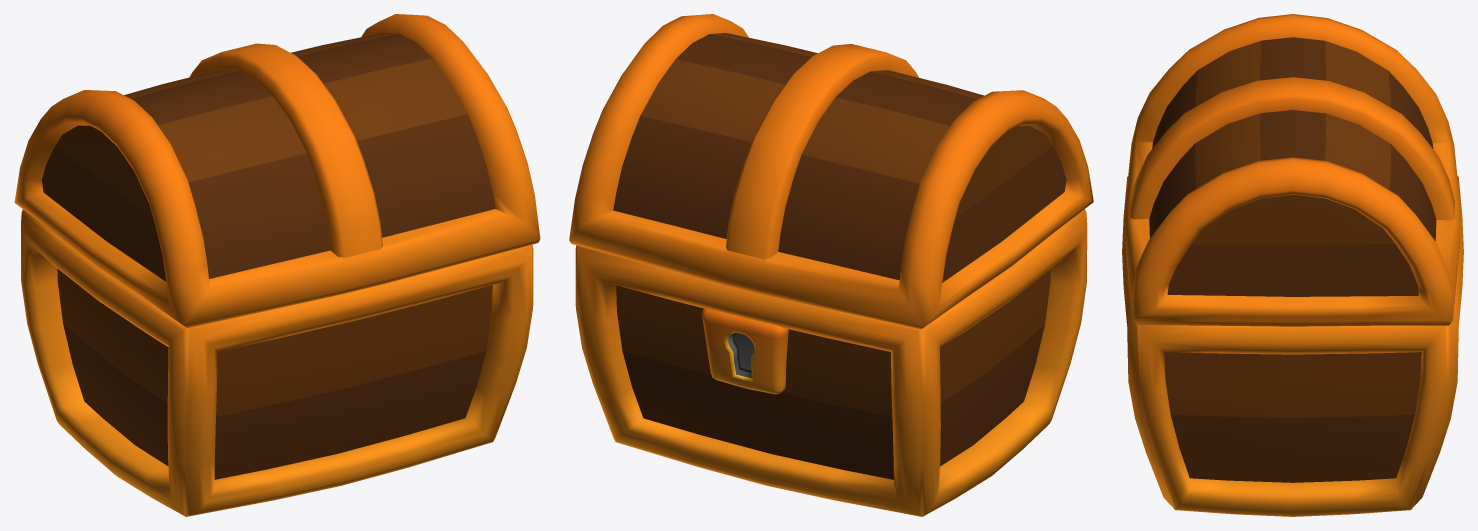
The model's file is Trasure_Chest_V3_0.fbx.
3 renders of one model, left to right at view 1: azimuth 30°, elevation 25°; view 2: azimuth 150°, elevation 25°; view 3: azimuth 270°, elevation 25°, orthographic. The views are drawn at different scales.
Visible parts, largest first — view 1: Trasure_Chest_V3_0; view 2: Trasure_Chest_V3_0; view 3: Trasure_Chest_V3_0.
Boxes of the visible parts, x1,y1,x2,y2 form: Trasure_Chest_V3_0: [14, 14, 540, 516]; Trasure_Chest_V3_0: [569, 14, 1093, 516]; Trasure_Chest_V3_0: [1122, 14, 1463, 516].
Size of the model in its own units: 0.4473 by 0.4389 by 0.3773.
